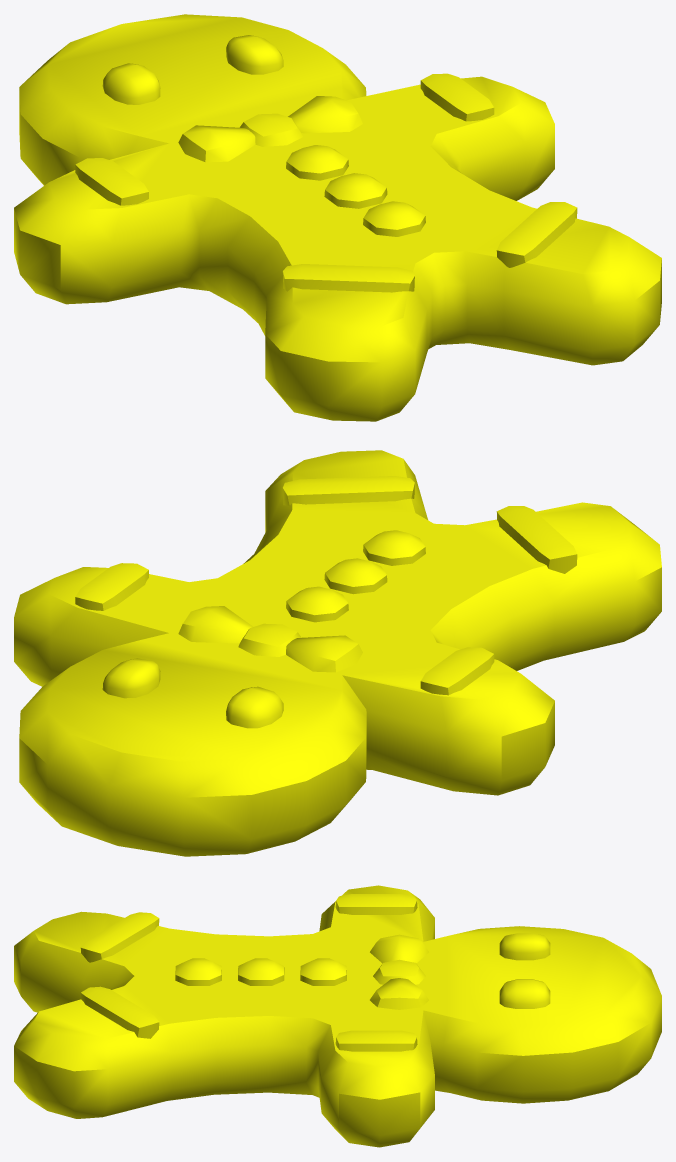
The model's file is kaykit-gingerbread-man.glb.
3 views of the same model, one above another, from view 1: azimuth 30°, elevation 25°; view 2: azimuth 150°, elevation 25°; view 3: azimuth 270°, elevation 25° (orthographic). The views are drawn at different scales.
Parts seen in each view (by area): view 1: gingerbread_man; view 2: gingerbread_man; view 3: gingerbread_man.
Part boxes in pixels (x1=…): gingerbread_man: x1=14, y1=14, x2=661, y2=421; gingerbread_man: x1=14, y1=450, x2=661, y2=856; gingerbread_man: x1=14, y1=885, x2=661, y2=1147.
Bounding box in the file's own units: 0.5577 × 0.1129 × 0.7348.
